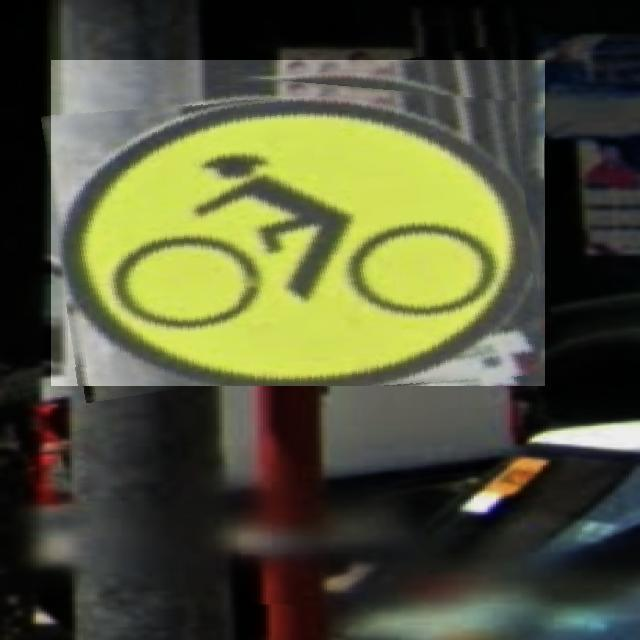bike lane: (51, 60, 545, 386)
